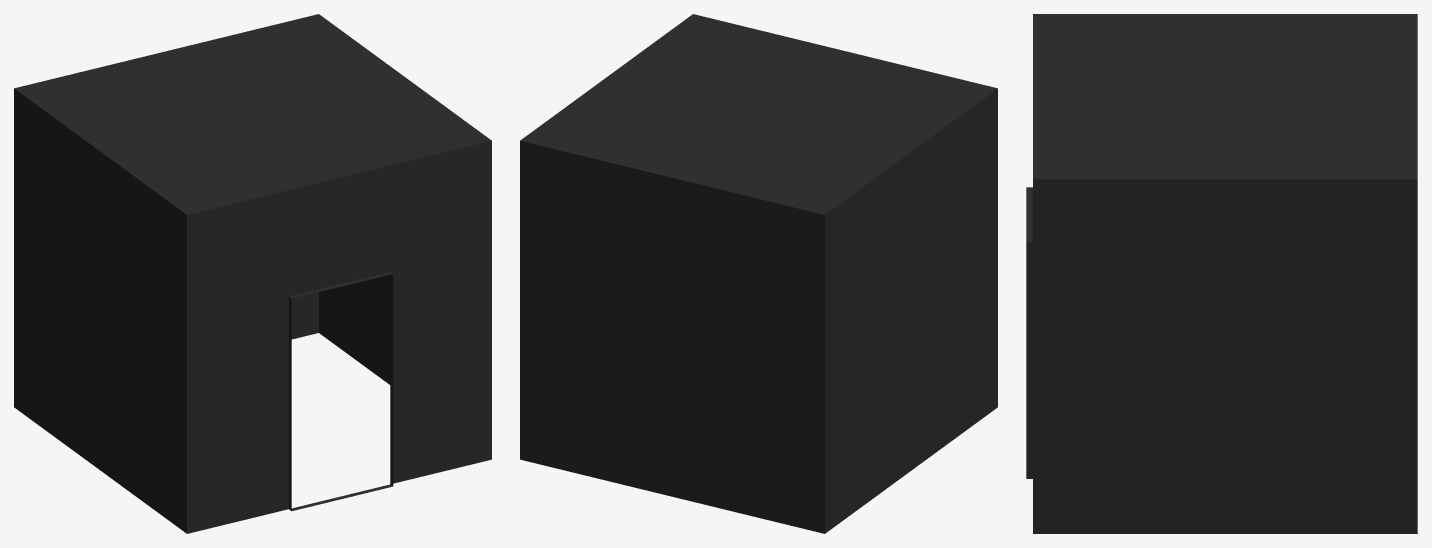
Rendered from pattern_room3x3.fbx.
3 renders of one model, left to right at view 1: azimuth 30°, elevation 25°; view 2: azimuth 150°, elevation 25°; view 3: azimuth 270°, elevation 25°, orthographic. The views are drawn at different scales.
Parts seen in each view (by area): view 1: pattern_room3x3; view 2: pattern_room3x3; view 3: pattern_room3x3.
Part boxes in pixels (bbox=[...]): pattern_room3x3: bbox=[14, 14, 491, 533]; pattern_room3x3: bbox=[520, 14, 997, 533]; pattern_room3x3: bbox=[1026, 14, 1417, 533].
Size of the model in its own units: 300 by 300 by 300.
